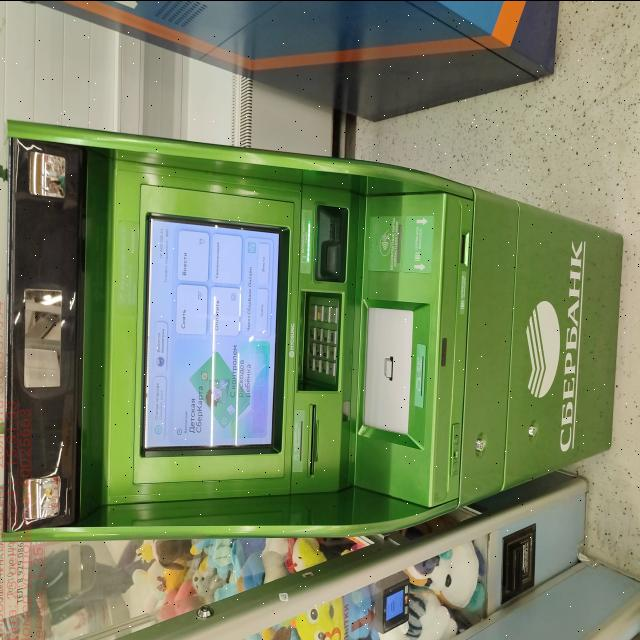bank: (0, 119, 623, 540)
